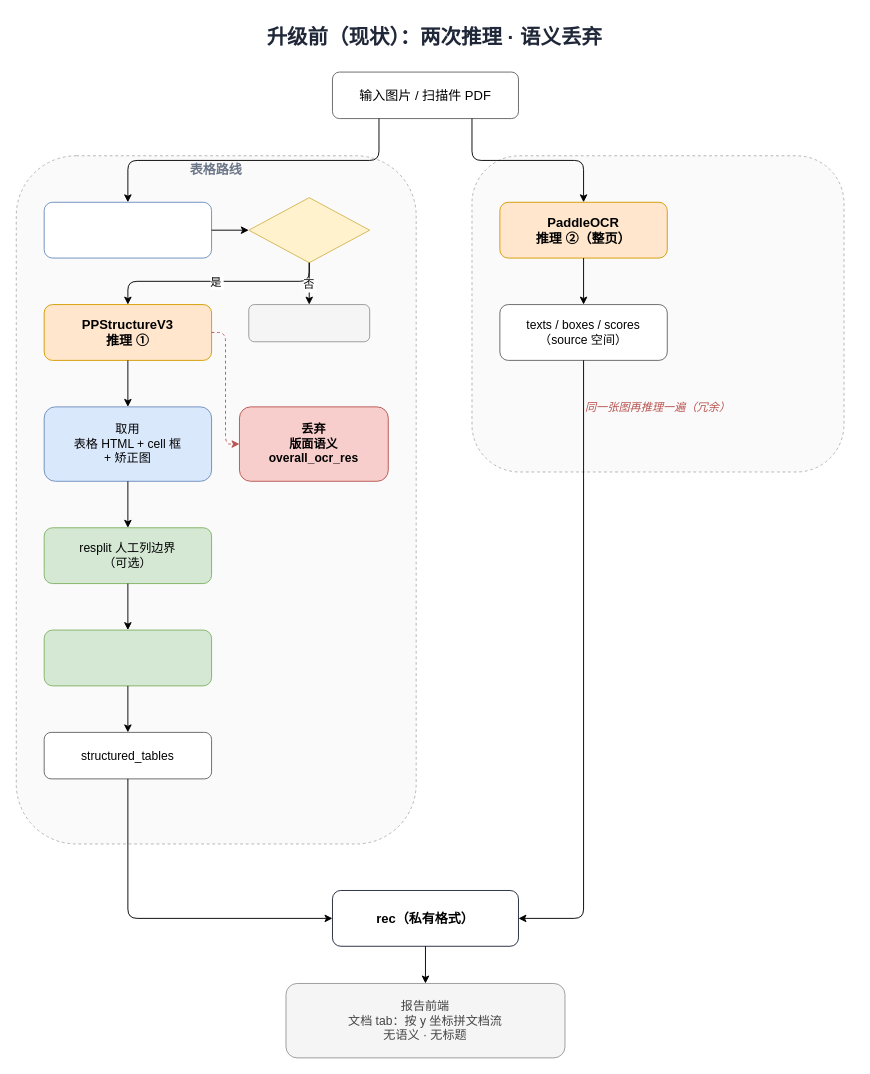
Image size: 870x1074. Some labels were removed from this diagram. Each missing label, with the box of its shape:
structure.py 表头切分 / 对齐: (43, 629, 212, 686)
文字路线: (471, 155, 844, 472)
网格 命中？: (248, 197, 370, 263)
跳过表格模型: (248, 304, 370, 342)
长直线网格预筛 grid_score（霍夫）: (43, 201, 212, 258)
